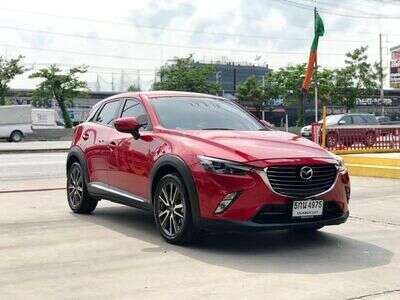pickup: (65, 90, 351, 246)
